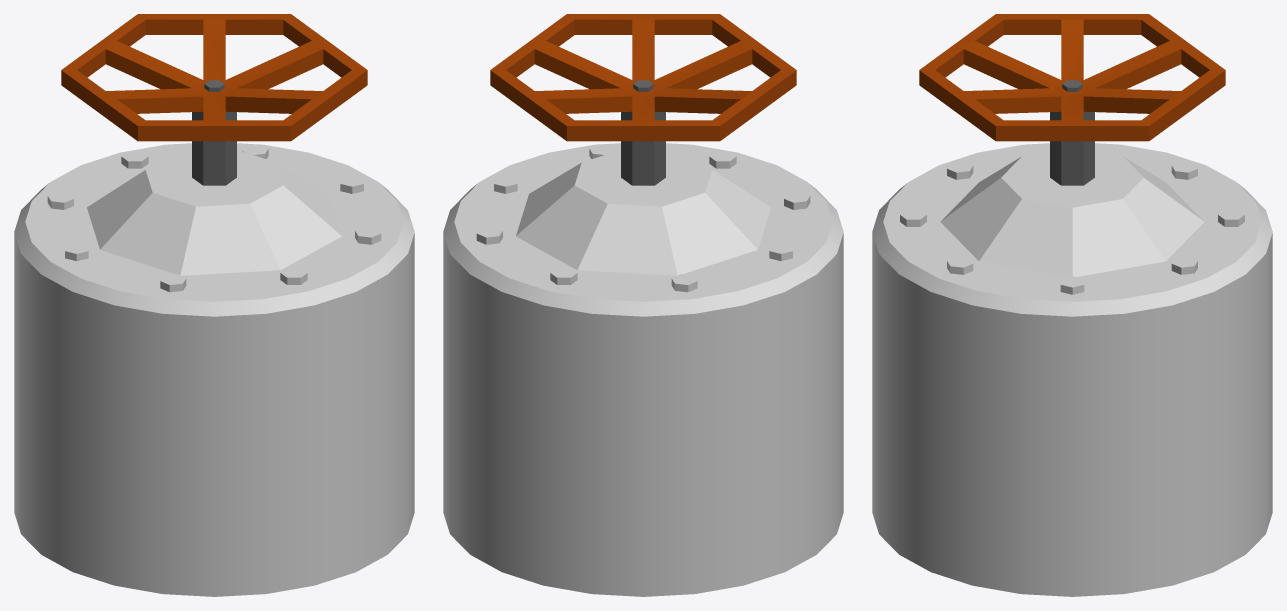
File: Valve.fbx
3 renders of one model, left to right at view 1: azimuth 30°, elevation 25°; view 2: azimuth 150°, elevation 25°; view 3: azimuth 270°, elevation 25°, orthographic.
Parts seen in each view (by area): view 1: group_0.002; view 2: group_0.002; view 3: group_0.002.
Boxes of the visible parts, box(x1,y1,x2,y2) form: group_0.002: box(14, 14, 414, 596); group_0.002: box(443, 14, 843, 596); group_0.002: box(872, 14, 1272, 596).
Size of the model in its own units: 50 by 60.91 by 50.
